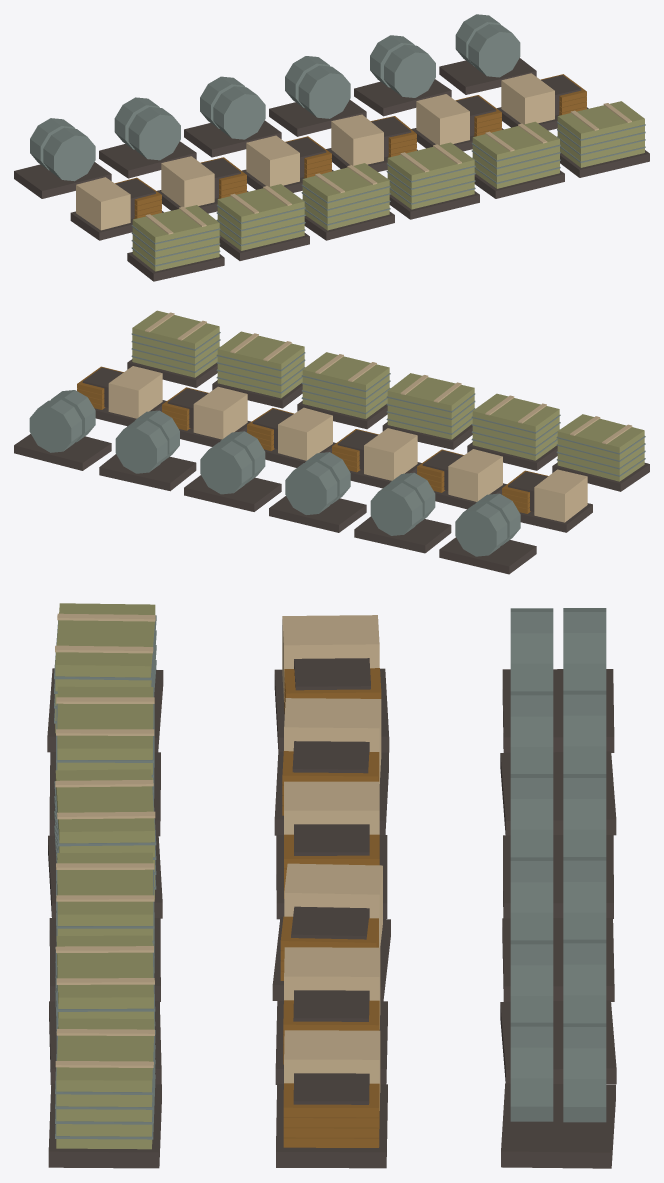
Rendered from SM_AcopioMateriales_v0_Lleno_LOD0.fbx.
3 renders of one model, top to bottom at view 1: azimuth 30°, elevation 25°; view 2: azimuth 150°, elevation 25°; view 3: azimuth 270°, elevation 25°, orthographic. The views are drawn at different scales.
Parts seen in each view (by area): view 1: SM_acopio_carga_v10_LOD0; view 2: SM_acopio_carga_v10_LOD0; view 3: SM_acopio_carga_v10_LOD0.
Part boxes in pixels (x1,y1,x2,y2): SM_acopio_carga_v10_LOD0: (14, 14, 649, 281); SM_acopio_carga_v10_LOD0: (14, 310, 649, 574); SM_acopio_carga_v10_LOD0: (47, 603, 616, 1168).
Bounding box in the file's own units: 9.1 × 0.94 × 4.52.
